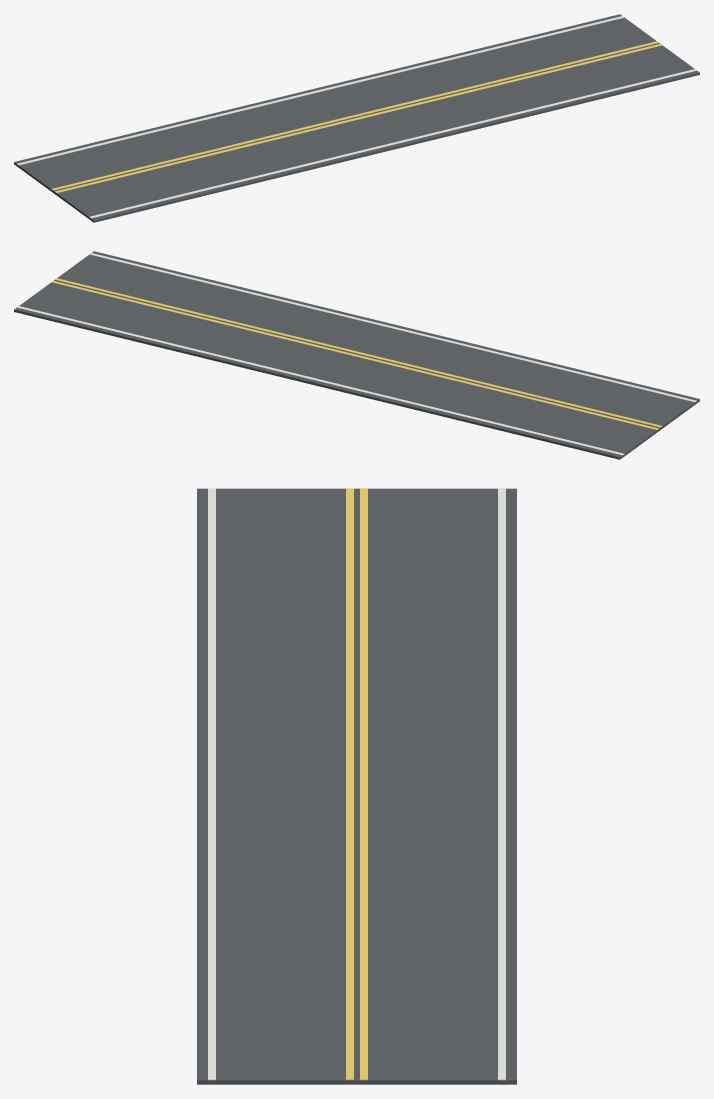
File: Road.fbx
3 renders of one model, top to bottom at view 1: azimuth 30°, elevation 25°; view 2: azimuth 150°, elevation 25°; view 3: azimuth 270°, elevation 25°, orthographic. The views are drawn at different scales.
Parts seen in each view (by area): view 1: Road; view 2: Road; view 3: Road.
Boxes of the visible parts, bbox=[...] form: Road: bbox=[14, 14, 699, 222]; Road: bbox=[14, 251, 699, 459]; Road: bbox=[197, 488, 516, 1084].
Bounding box in the file's own units: 1400 × 5.6 × 320.
